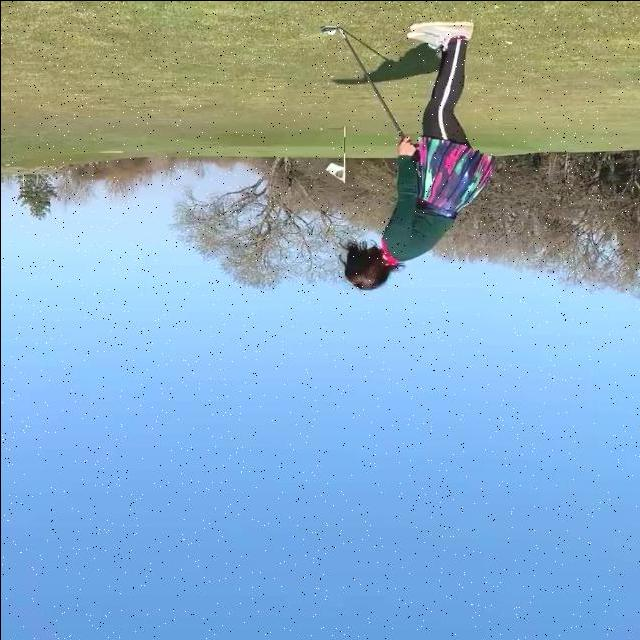golf ball: (327, 29, 335, 33)
golf club-handle: (319, 24, 402, 138)
golf club-head: (319, 24, 339, 31)
